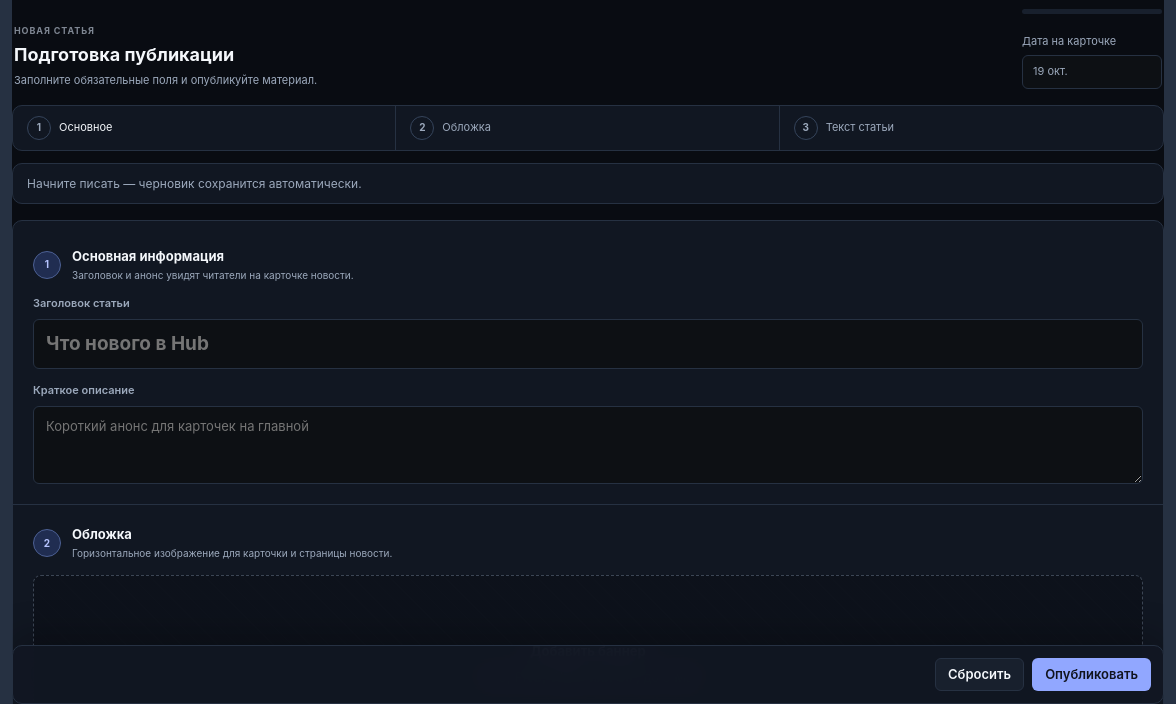
it: site news publishing and deletion › autosaves incomplete news to the server and preserves typing while saving
(page scrolled)
Type "Начало" into the field labelled "Заголовок статьи" at (588, 344), box [33, 319, 1143, 369]
Wait 1000 ms
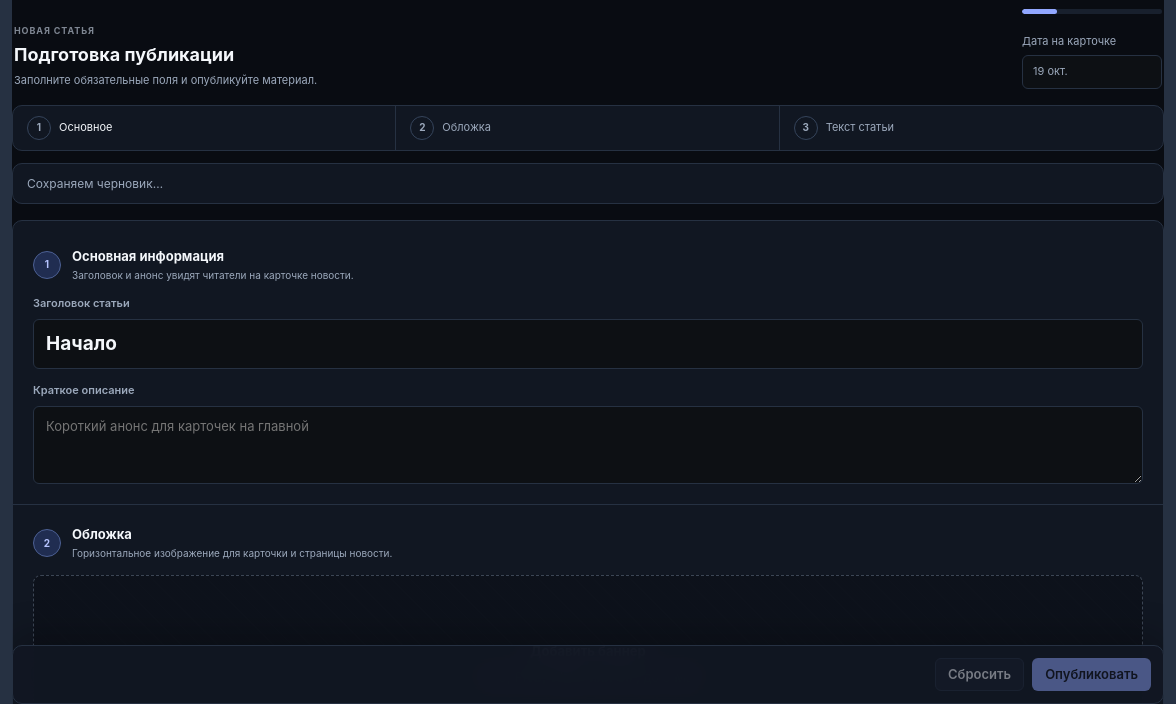
Now the button "Опубликовать" is disabled, box [1032, 658, 1151, 691]
Replace the text in the field labelled "Заголовок статьи" with "Продолжение" at (588, 344), box [33, 319, 1143, 369]
Wait 1000 ms
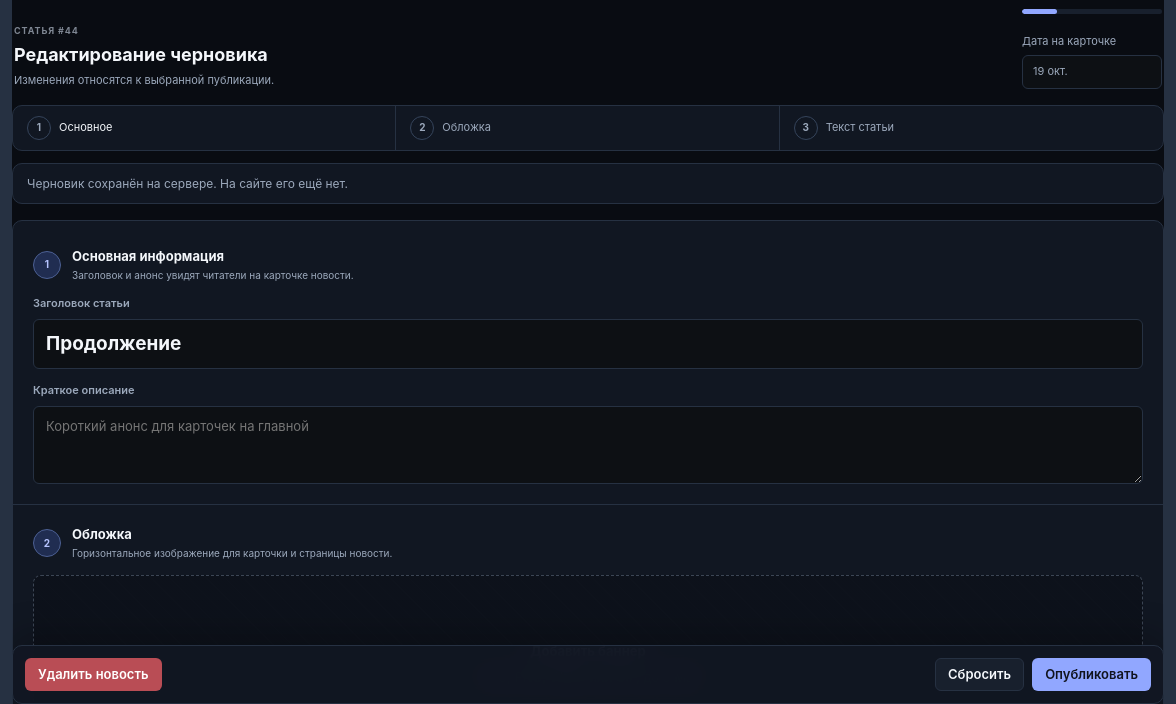
Now the text "Черновик сохранён на сервере. На сайте его ещё нет." is shown, box [12, 163, 1164, 204]
